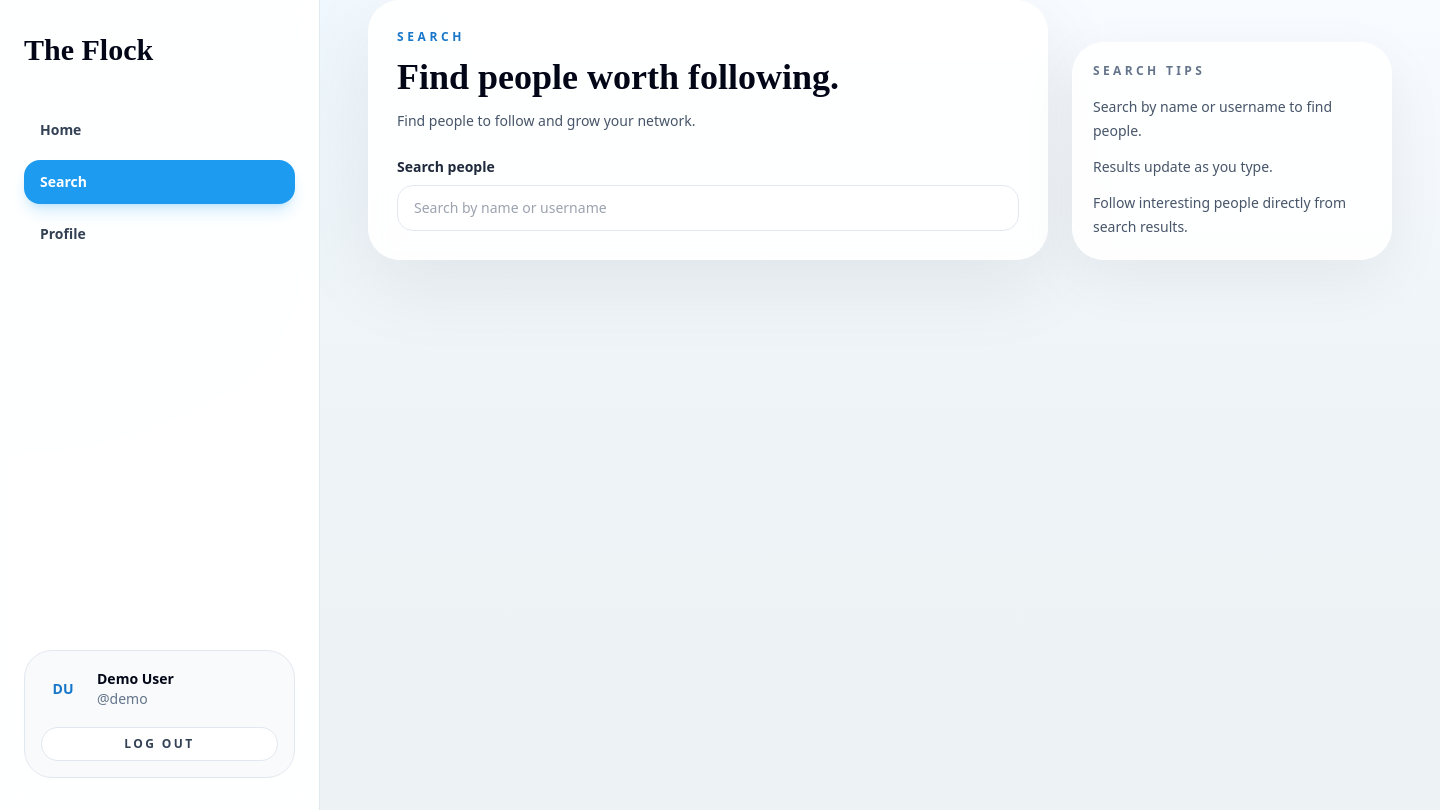
Test: Search page › renders search results
Type "kev" into the search field labelled "Search people" at (708, 208), box [397,185,1019,231]
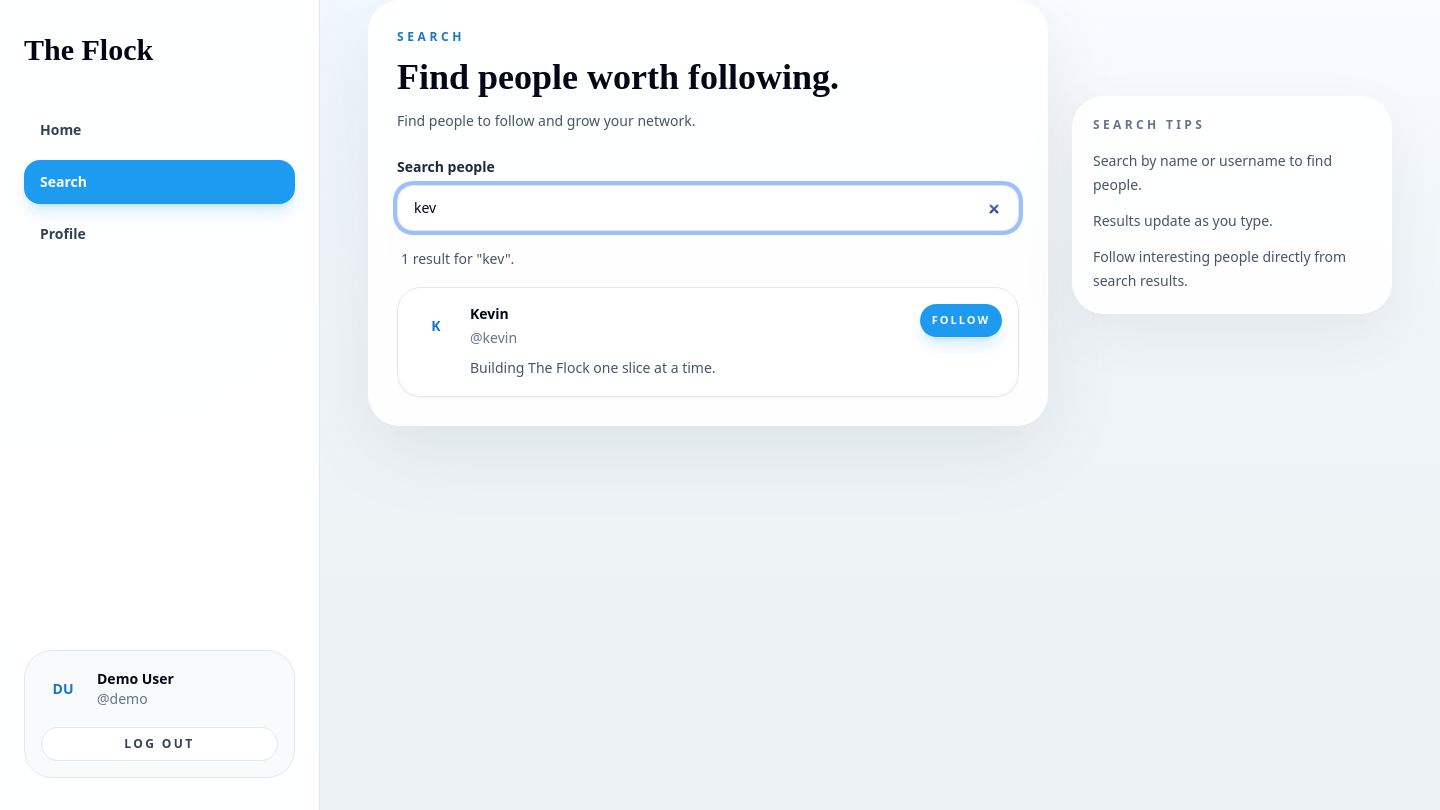
Expected: the text "Kevin" is shown, [470,304,509,323]
Expected: the text "@kevin" is shown, [470,328,517,347]
Expected: the text "Building The Flock one slice at a time." is shown, [470,358,716,377]
